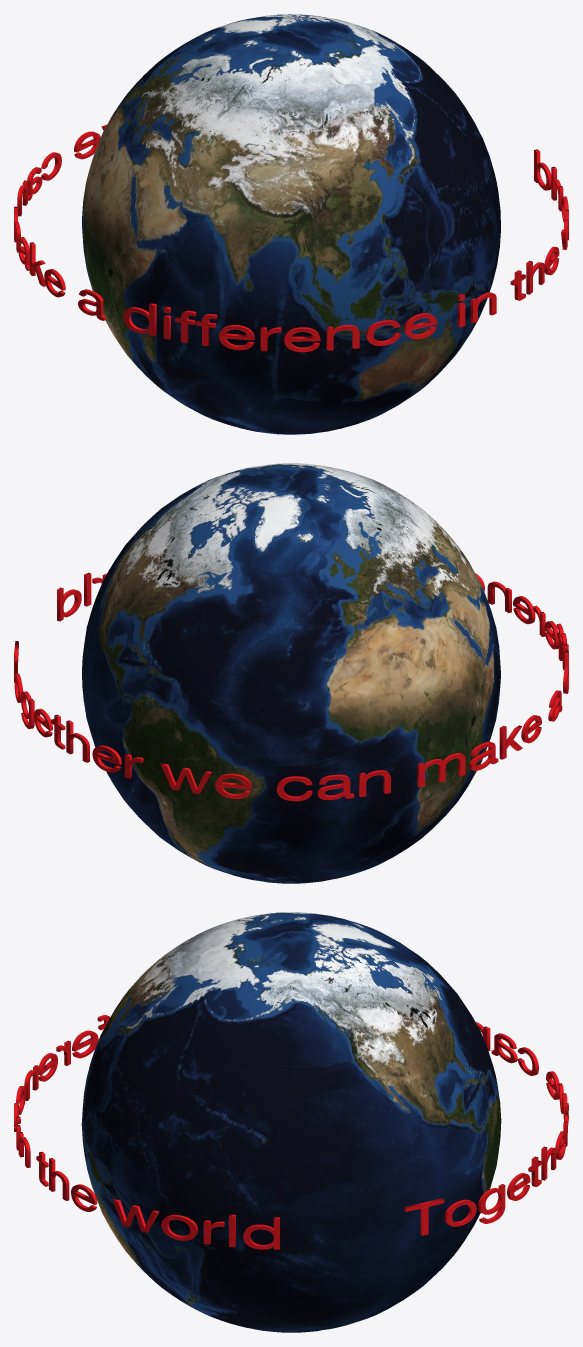
The model's file is globe.gltf.
3 views of the same model, one above another, from view 1: azimuth 30°, elevation 25°; view 2: azimuth 150°, elevation 25°; view 3: azimuth 270°, elevation 25° (orthographic).
Parts seen in each view (by area): view 1: Earth, Text; view 2: Earth, Text; view 3: Earth, Text.
Boxes of the visible parts, x1,y1,x2,y2 form: Earth: [82, 14, 500, 434]; Text: [14, 124, 568, 352]; Earth: [82, 463, 500, 883]; Text: [14, 572, 568, 801]; Earth: [81, 912, 501, 1332]; Text: [14, 1015, 568, 1249].
Size of the model in its own units: 4.19 by 3.19 by 4.19.
2 materials, 1 textured.
